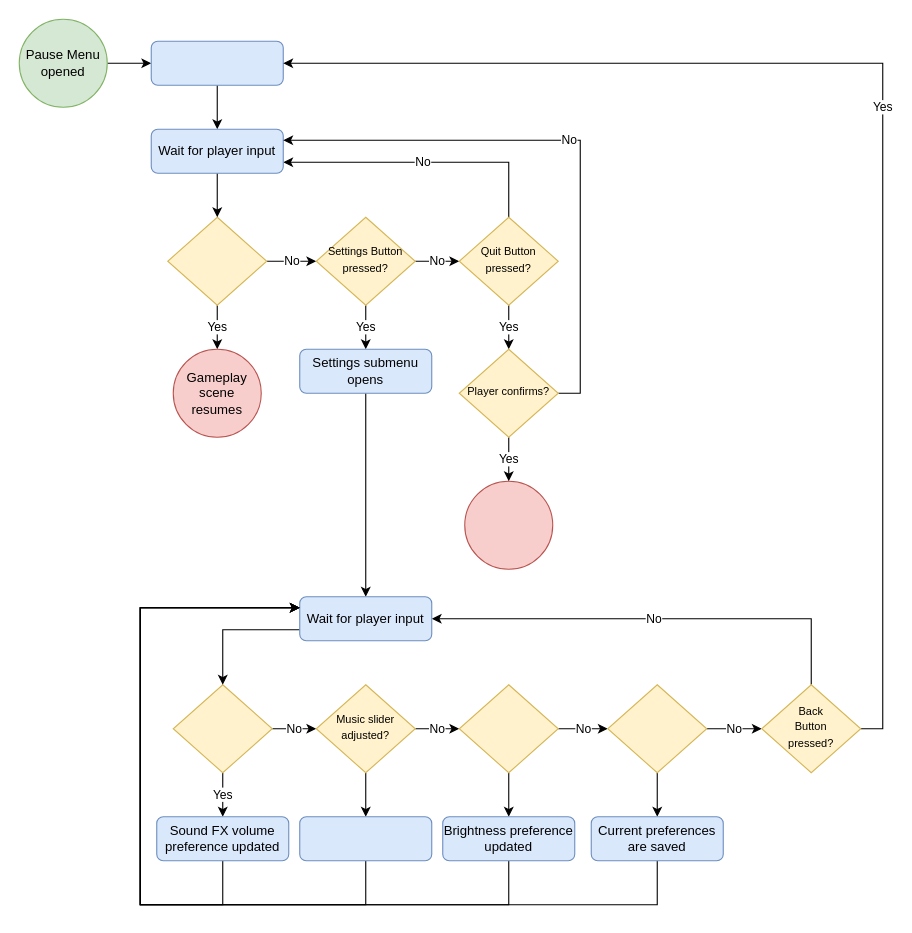
Some shapes in this 912 by 933 pixel diagram are drawn without their labels. The shapes that lost their labels are listed below. From the top down, each one's box as (x1, y1, x2, y2) in pixels, then its label:
(150, 40, 283, 85): Pause menu loads
(167, 216, 267, 305): Continue Button pressed?
(464, 480, 553, 569): Home Scene opens
(172, 684, 272, 773): Sound FX slider adjusted?
(458, 684, 558, 773): Brightness slider adjusted?
(607, 684, 707, 773): Save Button pressed?
(299, 816, 432, 861): Music volume preference updated
